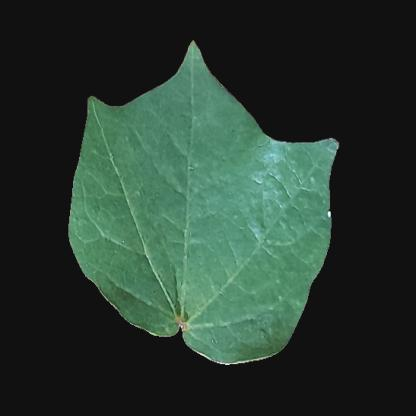healthy: (104, 125, 258, 295)
